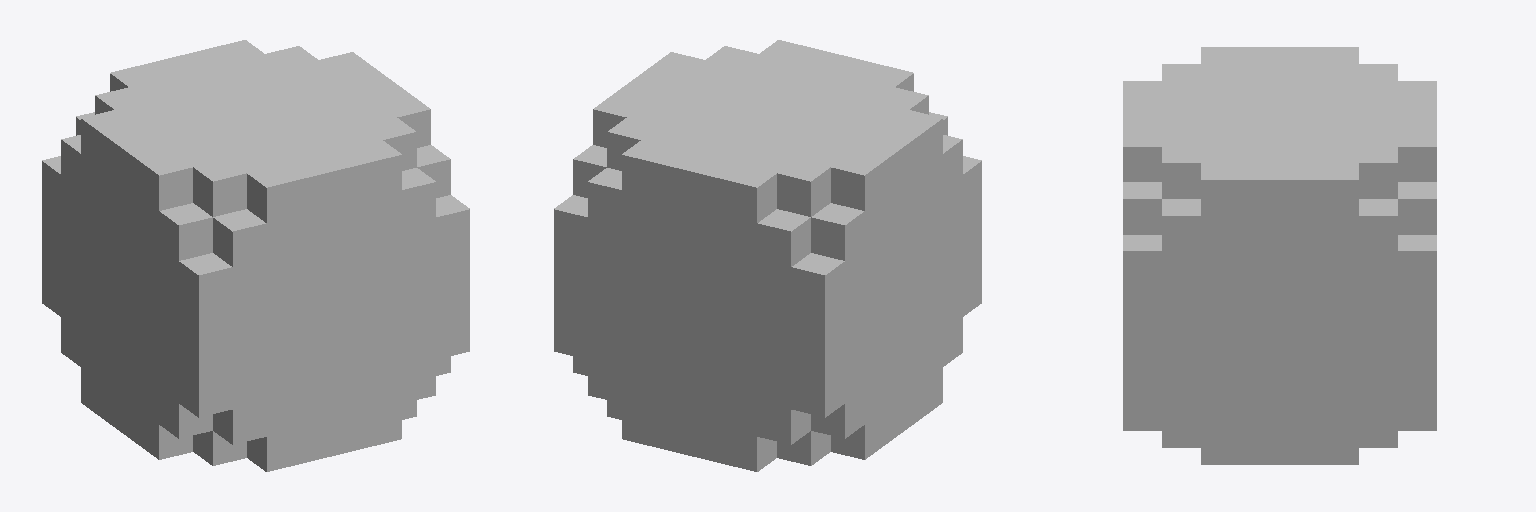
The model's file is core 1.obj.
3 views of the same model, side by side, from view 1: azimuth 30°, elevation 25°; view 2: azimuth 150°, elevation 25°; view 3: azimuth 270°, elevation 25° (orthographic).
Parts seen in each view (by area): view 1: object 1; view 2: object 1; view 3: object 1.
Part boxes in pixels (x1,y1,x2,y2): object 1: (42,40,469,471); object 1: (554,40,981,471); object 1: (1123,47,1436,464).
Bounding box in the file's own units: 0.8 × 0.8 × 0.8.